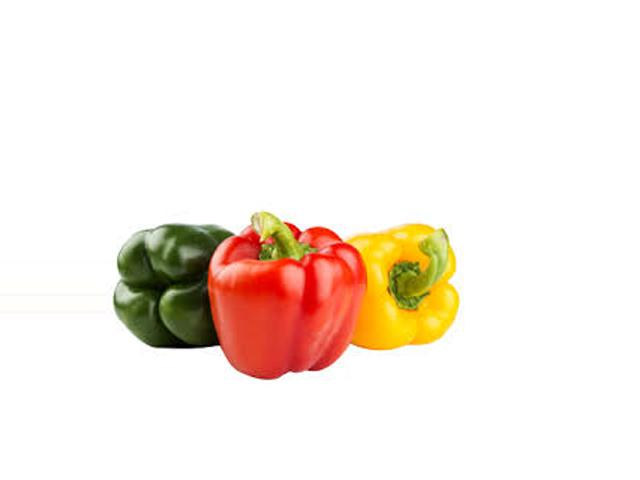bell_pepper: (337, 209, 466, 374)
